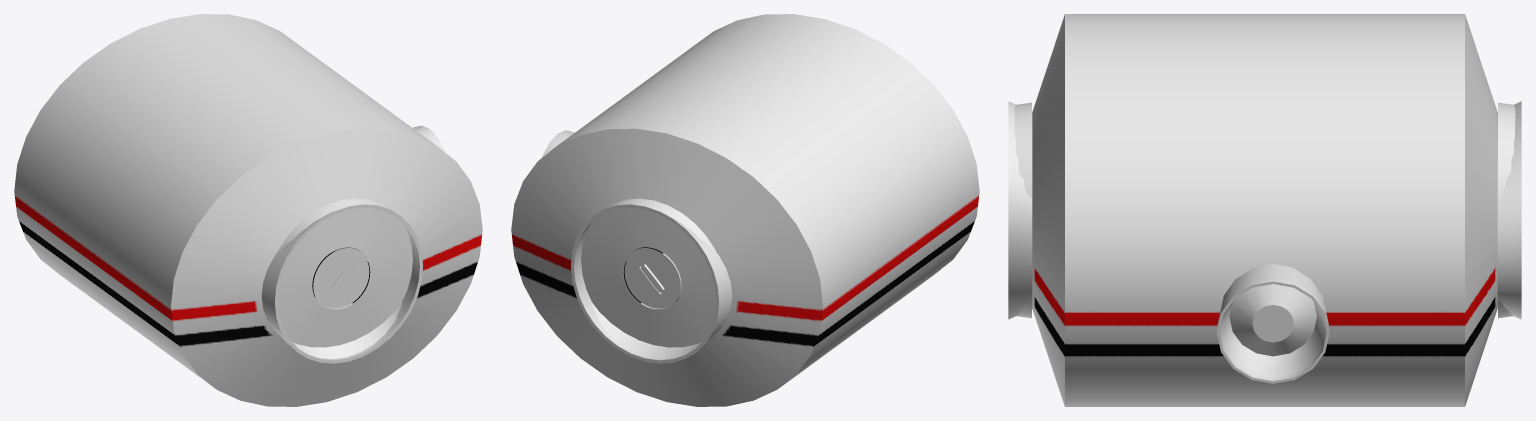
File: Maintenance.glb
3 views of the same model, side by side, from view 1: azimuth 30°, elevation 25°; view 2: azimuth 150°, elevation 25°; view 3: azimuth 270°, elevation 25° (orthographic). The views are drawn at different scales.
Parts seen in each view (by area): view 1: maintenance outer.001; view 2: maintenance outer.001; view 3: maintenance outer.001.
Part boxes in pixels (x1,y1,x2,y2): maintenance outer.001: (14,14,482,406); maintenance outer.001: (511,14,979,406); maintenance outer.001: (1008,14,1521,406).
Size of the model in its own units: 2.61 by 1.97 by 2.67.
Materials: 1 (1 with a texture image).
